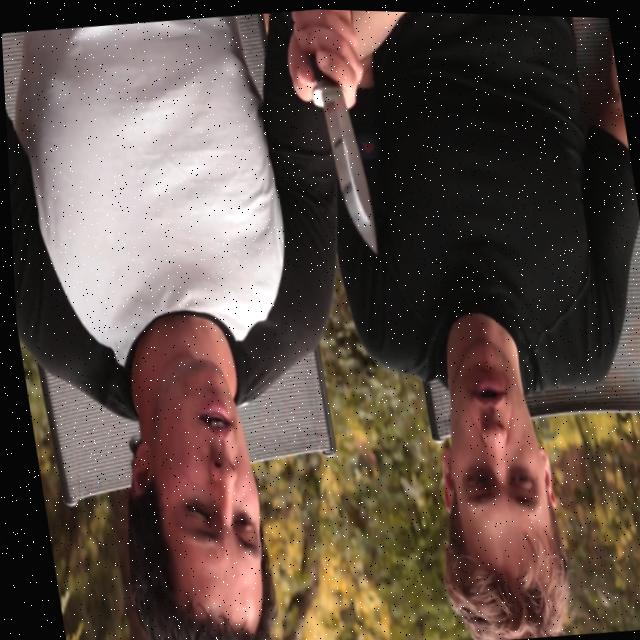knife: (302, 45, 377, 258)
